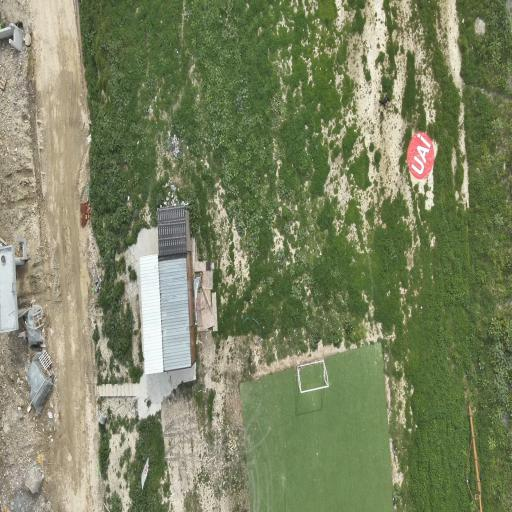UAI: (408, 132, 434, 179)
person: (380, 93, 389, 108)
